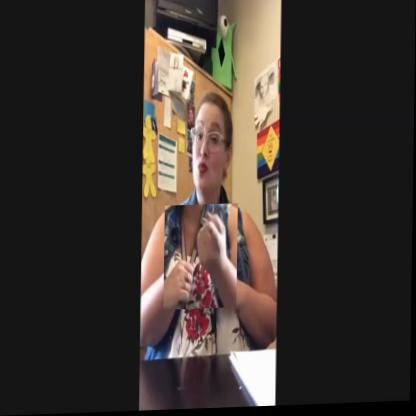HowAreYou: (164, 205, 239, 312)
